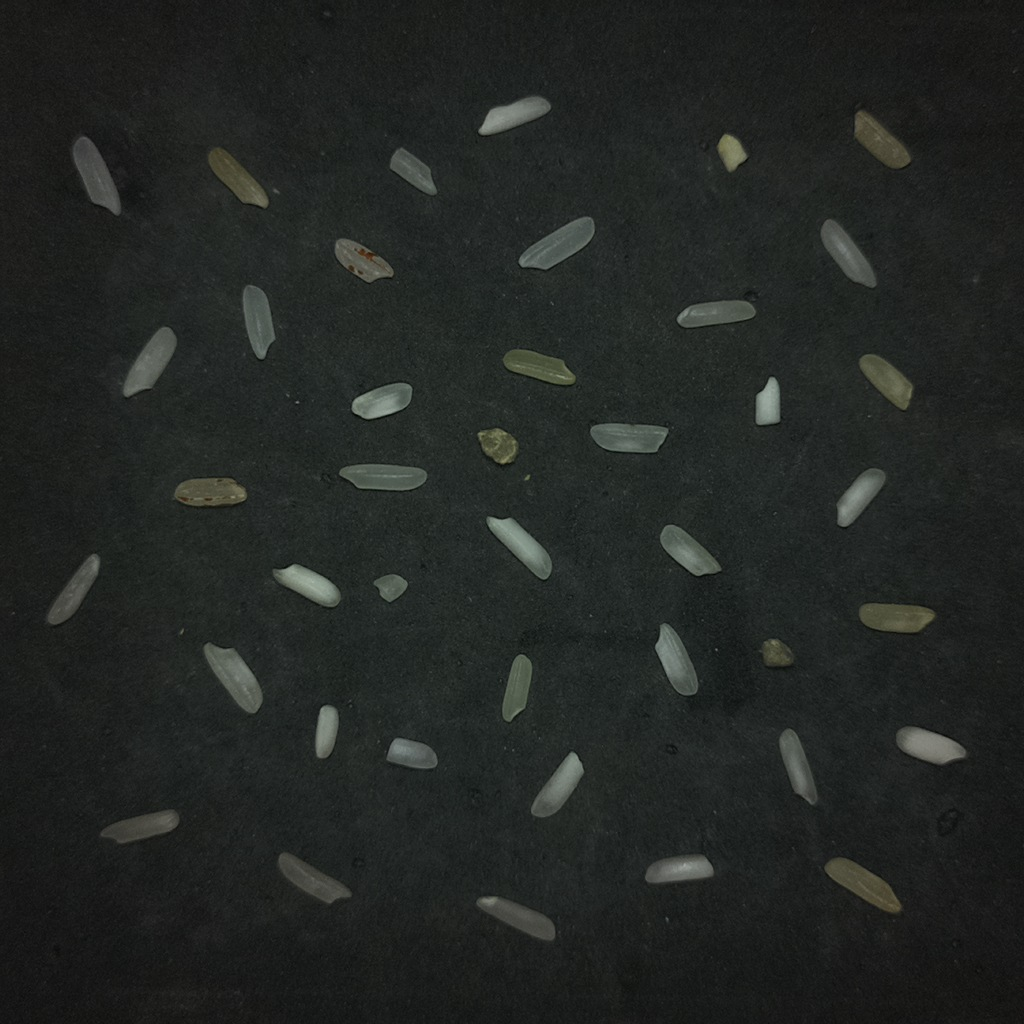broken: (660, 524, 721, 576), (779, 729, 817, 805), (351, 382, 412, 419), (389, 148, 437, 195), (645, 854, 713, 884), (386, 738, 437, 769), (373, 574, 408, 602)
chalky: (486, 516, 551, 579), (273, 564, 340, 607), (478, 95, 550, 135), (896, 726, 966, 764), (314, 704, 339, 758), (755, 376, 780, 424)
discolored: (824, 858, 901, 913), (208, 147, 268, 208), (855, 110, 910, 168), (859, 354, 912, 409), (503, 349, 575, 385), (859, 603, 935, 633), (717, 133, 747, 172)
foreign: (477, 427, 518, 464), (761, 638, 794, 667)
red: (334, 238, 394, 282), (174, 477, 246, 507)
whole: (203, 643, 262, 713), (518, 216, 594, 269), (72, 135, 121, 215), (46, 553, 100, 625), (122, 326, 176, 397), (820, 219, 876, 287), (277, 853, 351, 903), (476, 896, 555, 941), (531, 752, 583, 817), (655, 623, 698, 695), (836, 468, 885, 527), (100, 809, 179, 843), (243, 285, 275, 359), (339, 464, 426, 490), (590, 423, 668, 452), (676, 300, 755, 328), (502, 654, 532, 722)
